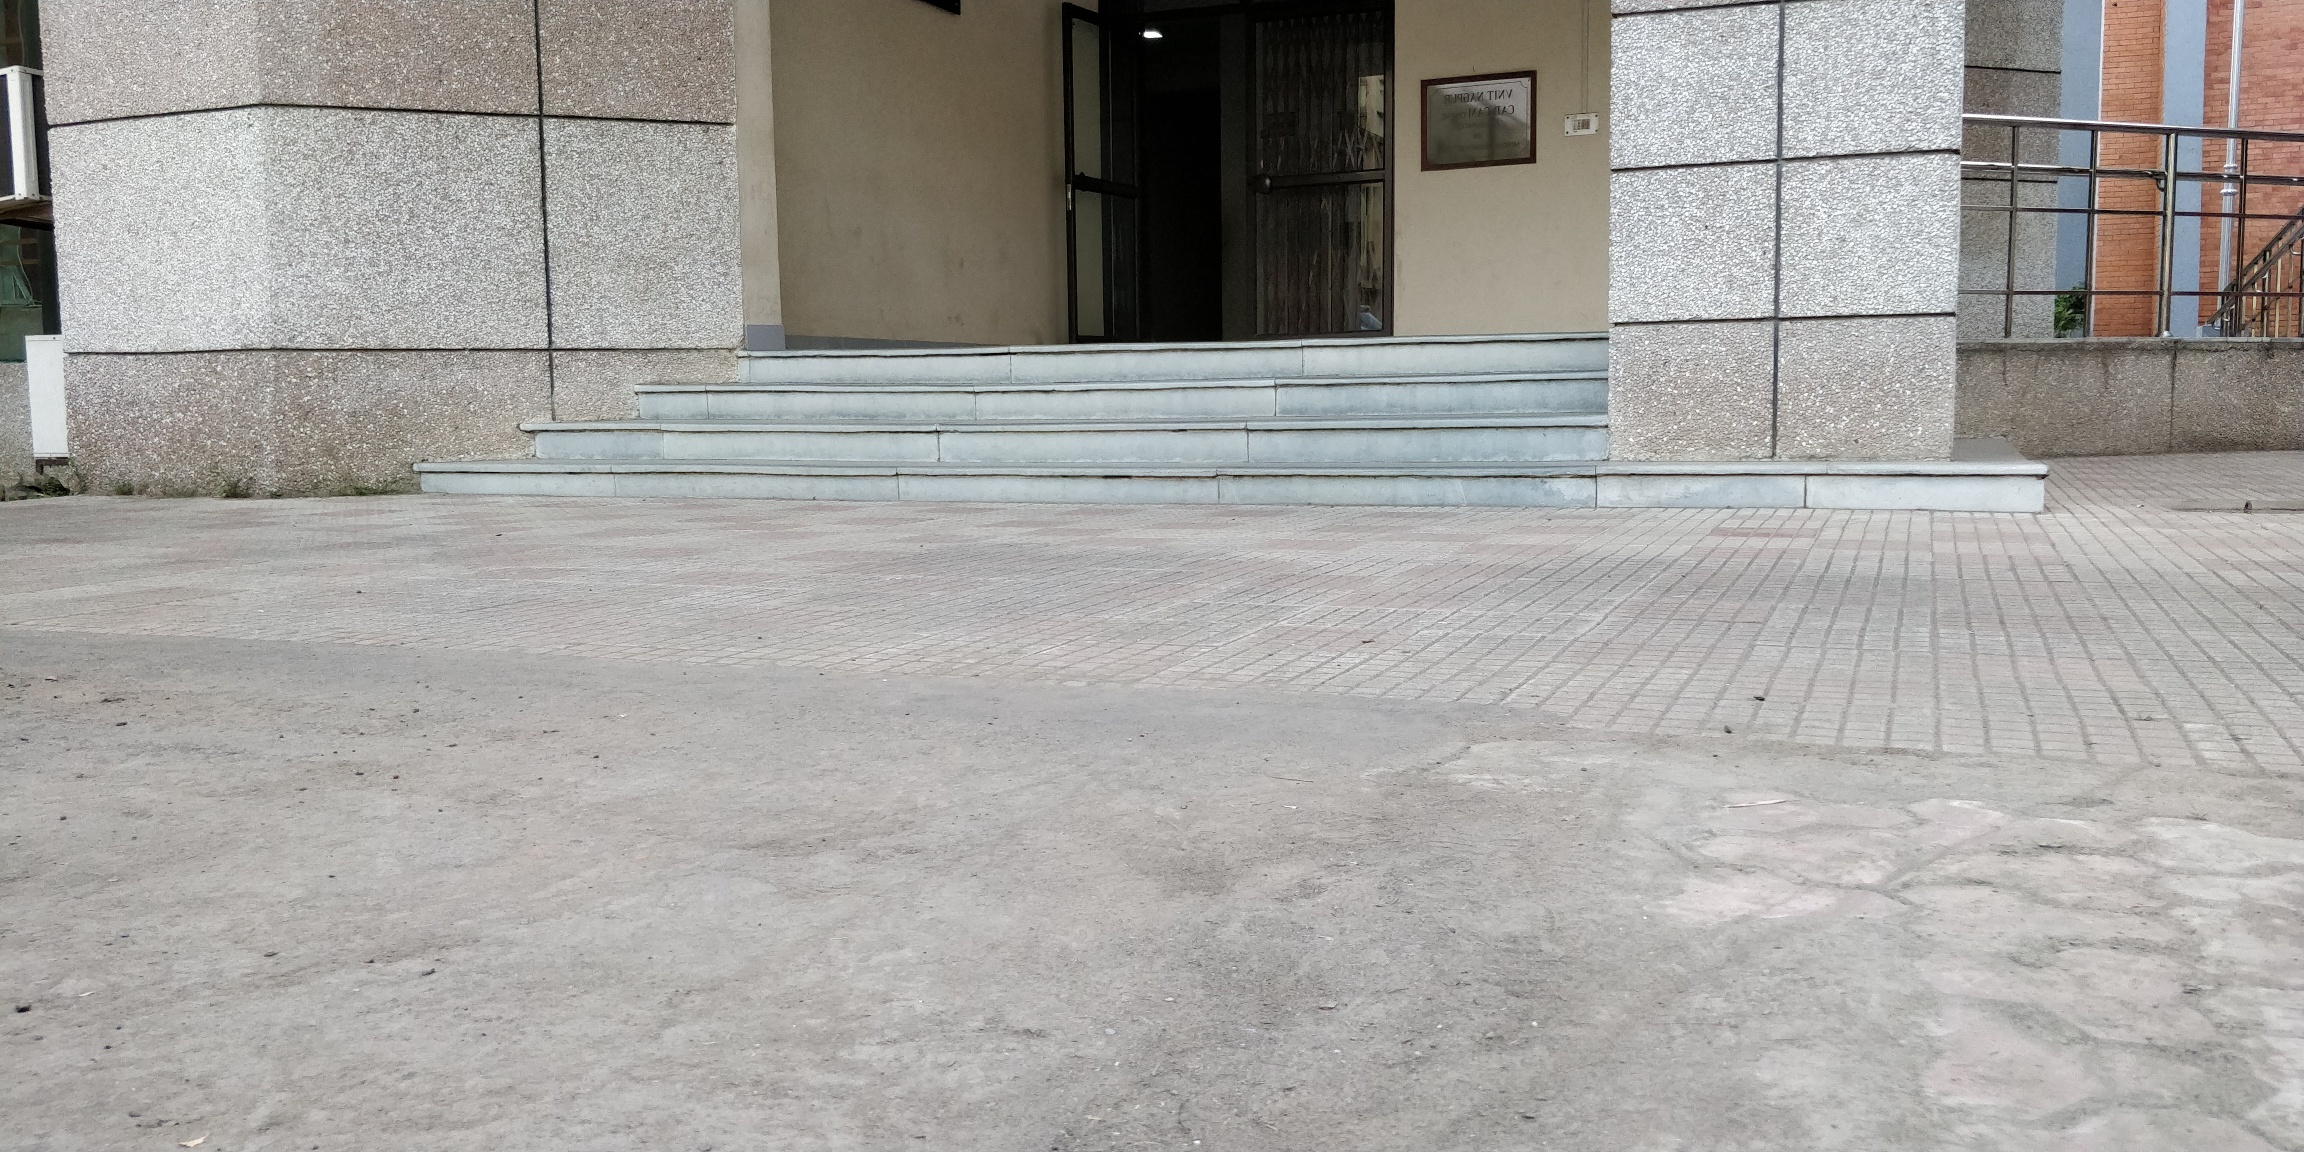stairs_up: (486, 323, 1605, 489)
